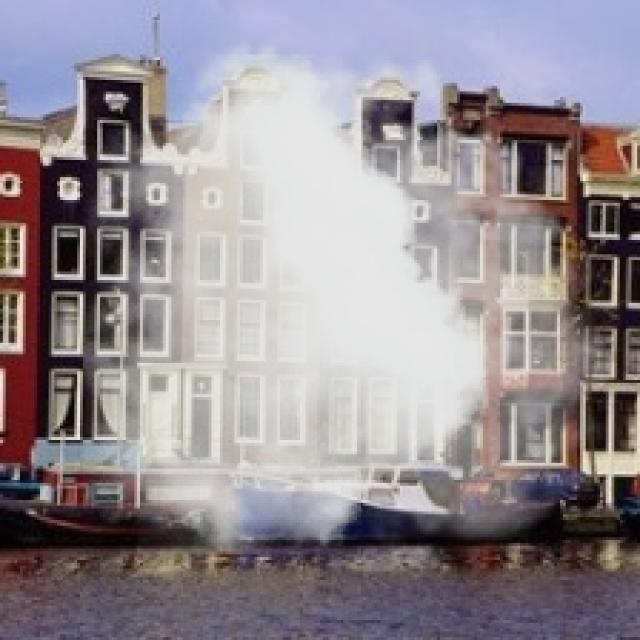Smoke: (83, 22, 632, 554)
